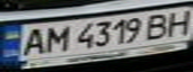1: (109, 17, 130, 45)
3: (93, 18, 115, 47)
4: (72, 20, 96, 51)
9: (124, 15, 148, 44)
A: (15, 25, 51, 57)
B: (142, 11, 175, 40)
H: (160, 7, 193, 37)
M: (39, 24, 72, 54)
